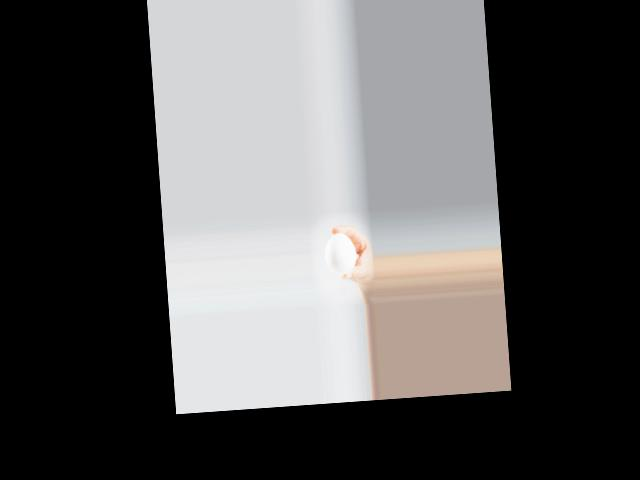egg: (323, 231, 357, 274)
